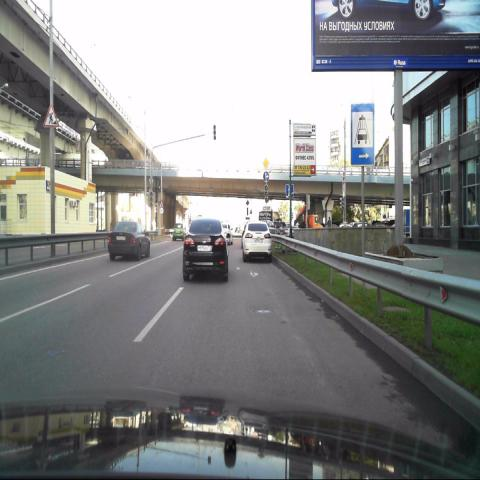7_5: (351, 104, 374, 165)
